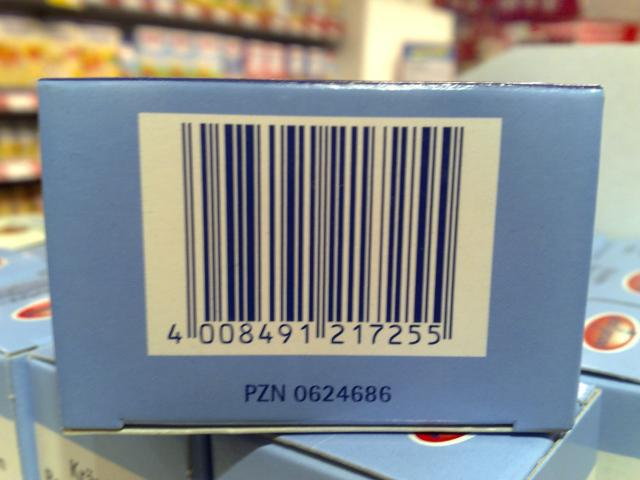Barkod: (176, 122, 462, 320)
